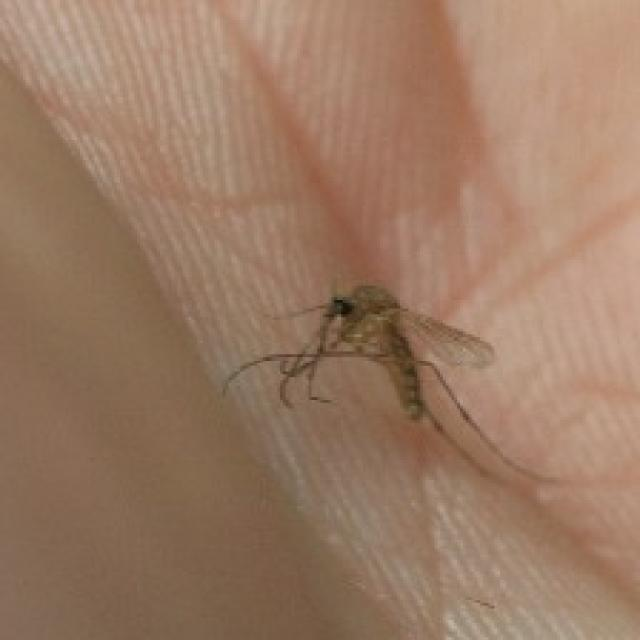culex: (220, 280, 557, 486)
